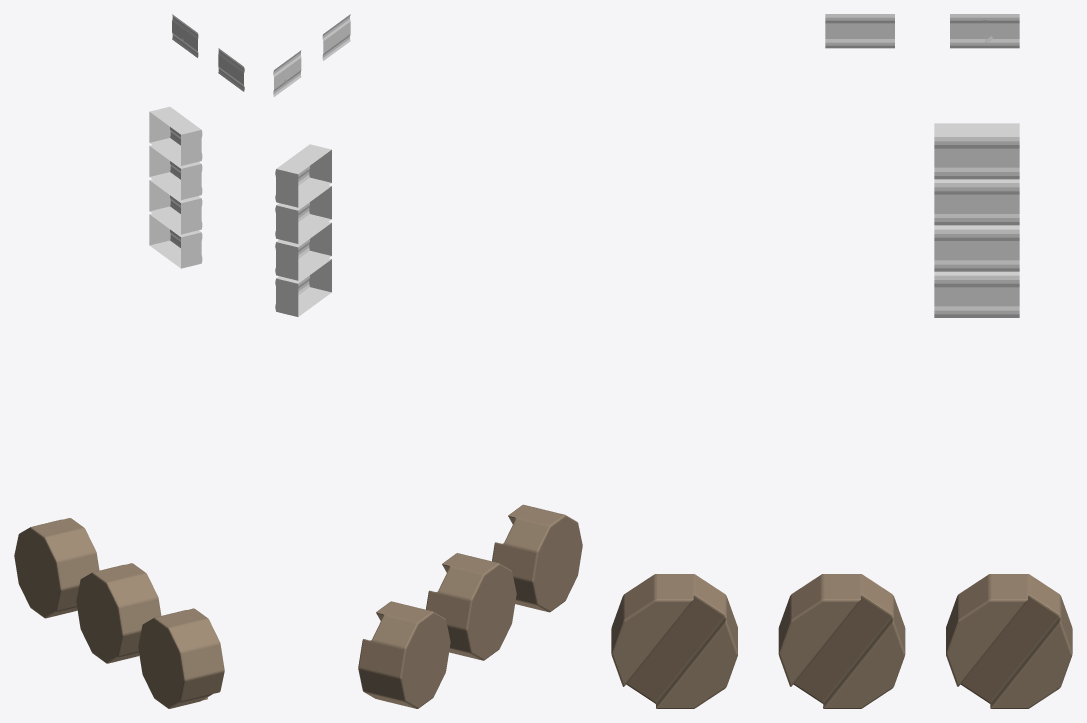
The model's file is CircuitBreakerHeavy_Buttons.fbx.
The picture shows the model from 3 angles, left to right: view 1: azimuth 30°, elevation 25°; view 2: azimuth 150°, elevation 25°; view 3: azimuth 270°, elevation 25°; orthographic projection. The views are drawn at different scales.
Visible parts, largest first — view 1: Buttons; view 2: Buttons; view 3: Buttons.
Part boxes in pixels (left/top/right/bottom): Buttons: left=14, top=14, right=244, bottom=708; Buttons: left=273, top=14, right=582, bottom=708; Buttons: left=611, top=14, right=1072, bottom=708.
Size of the model in its own units: 30.83 by 56.1 by 14.53.
